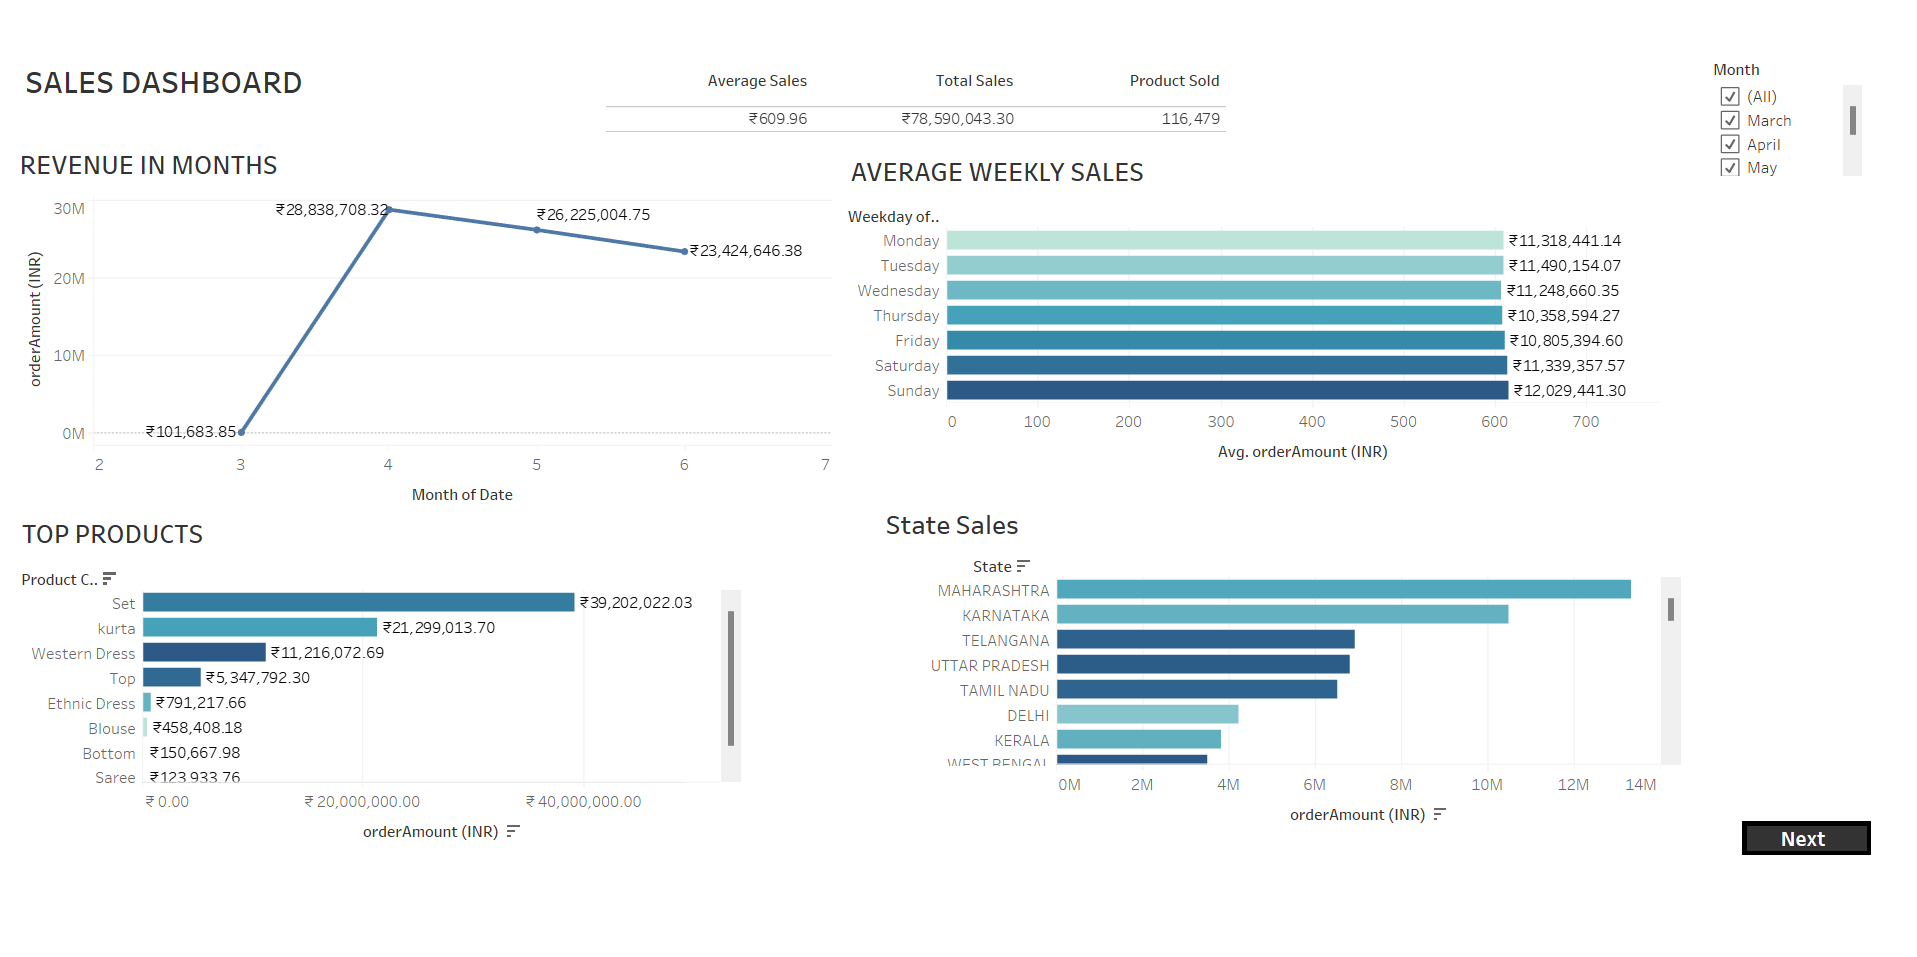

This screenshot's page, from the dashboard's own definition file:
{"tool":"tableau","page":{"name":"Dashboard 1","canvas":[1000,1000],"units":"permille","ordinal":0},"visuals":[{"type":"worksheet","title":"Sheet 6","mark":"Automatic","box":[315.2,11.2,326.5,332.3]},{"type":"title","box":[6.1,12.8,987.9,65.8]},{"type":"filter","title":"Sheet 1","param":"[federated.1d5u7ym0utdstj1f5yex61mse7ze].[none:Calculation_2085166640068116481:n","box":[897.7,14.5,78.8,142.9]},{"type":"worksheet","title":"Sheet 1","mark":"Automatic","rows":["orderAmount (INR)"],"cols":["date"],"box":[3.8,117.2,430.3,449.4]},{"type":"worksheet","title":"Sheet 3","mark":"Bar","rows":["date"],"cols":["orderAmount (INR)"],"box":[441.7,123.6,428,436.6]},{"type":"worksheet","title":"Sheet 7","mark":"Automatic","rows":["state"],"cols":["orderAmount (INR)"],"box":[459.9,553.8,421.2,401.3]},{"type":"worksheet","title":"Sheet 2","mark":"Automatic","rows":["productCategory"],"cols":["orderAmount (INR)"],"box":[5.3,563.4,439.4,412.5]},{"type":"dashboard-object","box":[912.9,939,68.2,41.7]}]}

Visuals, with their boxes on the dashboard's canvas, which has no fixed pixel size, in thousandths of its width and height (x1, y1, x2, y2). These are canvas units, not pixel positions in the 1917x957 screenshot, which may show the page scaled, cropped or inside an application window:
"Sheet 6" worksheet: select_region(315, 11, 642, 344)
title: select_region(6, 13, 994, 79)
"Sheet 1" filter: select_region(898, 14, 976, 157)
"Sheet 1" worksheet: select_region(4, 117, 434, 567)
"Sheet 3" worksheet (Bar marks): select_region(442, 124, 870, 560)
"Sheet 7" worksheet: select_region(460, 554, 881, 955)
"Sheet 2" worksheet: select_region(5, 563, 445, 976)
dashboard-object: select_region(913, 939, 981, 981)
